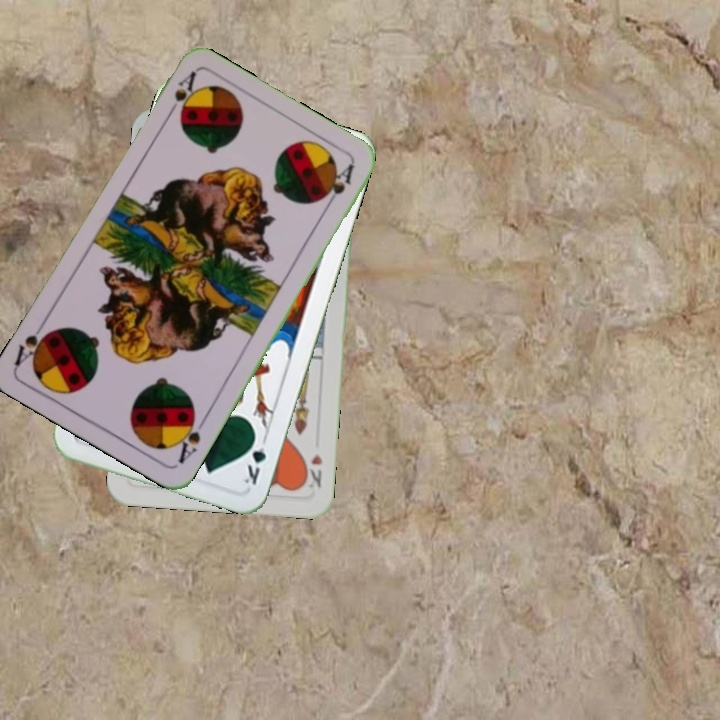GK: (240, 430, 270, 488)
HK: (304, 450, 325, 491)
SA: (170, 408, 209, 467), (162, 67, 199, 122)
